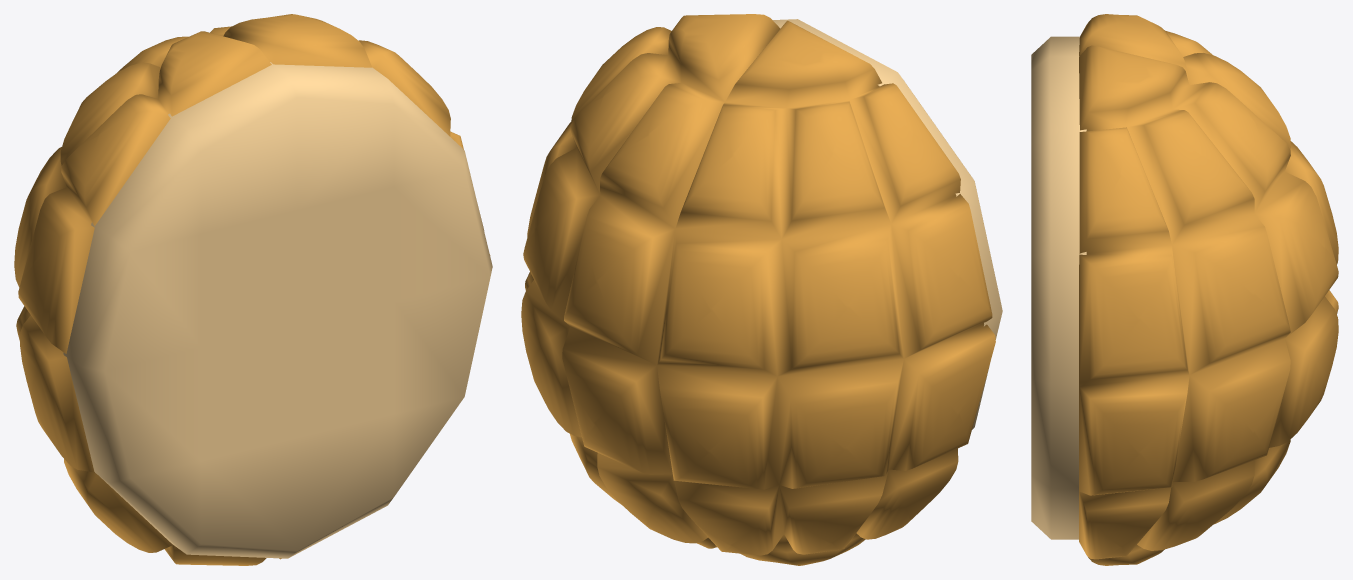
The model's file is polo_bun_small.glb.
3 renders of one model, left to right at view 1: azimuth 30°, elevation 25°; view 2: azimuth 150°, elevation 25°; view 3: azimuth 270°, elevation 25°, orthographic. The views are drawn at different scales.
Parts seen in each view (by area): view 1: Polo Bun; view 2: Polo Bun; view 3: Polo Bun.
Boxes of the visible parts, x1,y1,x2,y2 form: Polo Bun: (14,14,492,565); Polo Bun: (521,14,1002,565); Polo Bun: (1031,14,1338,565).
Bounding box in the file's own units: 1.91 × 2.13 × 1.18.
